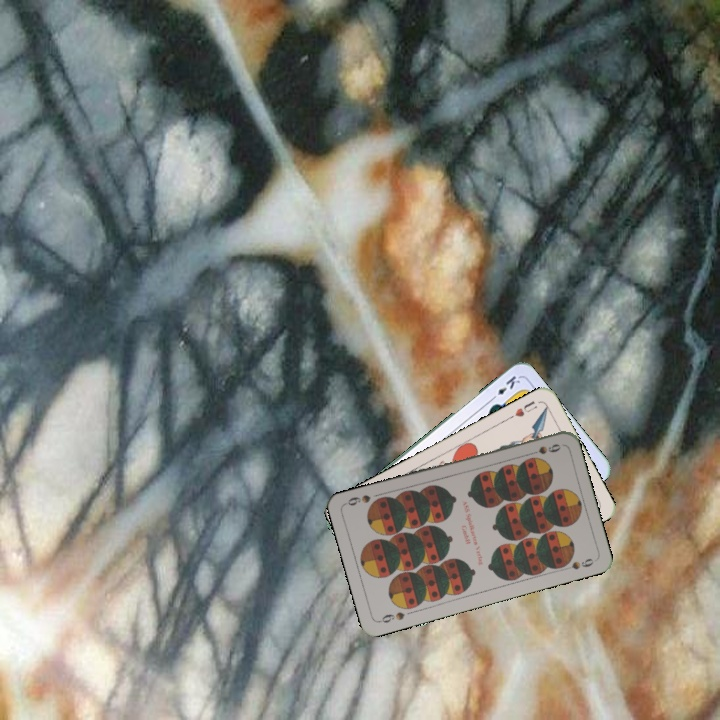EK: (487, 372, 523, 403)
HU: (504, 396, 540, 422)
S9: (524, 440, 563, 458), (375, 608, 407, 625)
